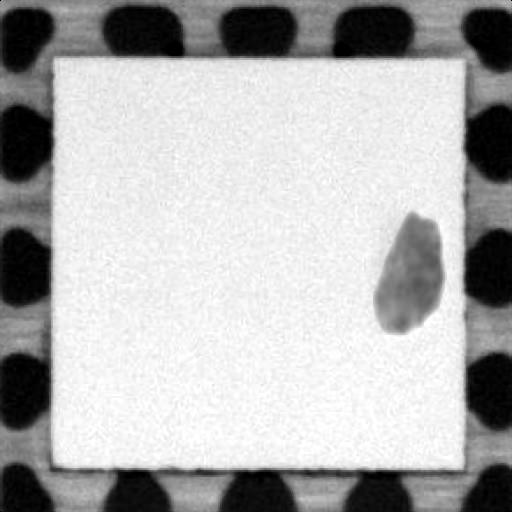DIE_INK: (368, 203, 445, 337)
